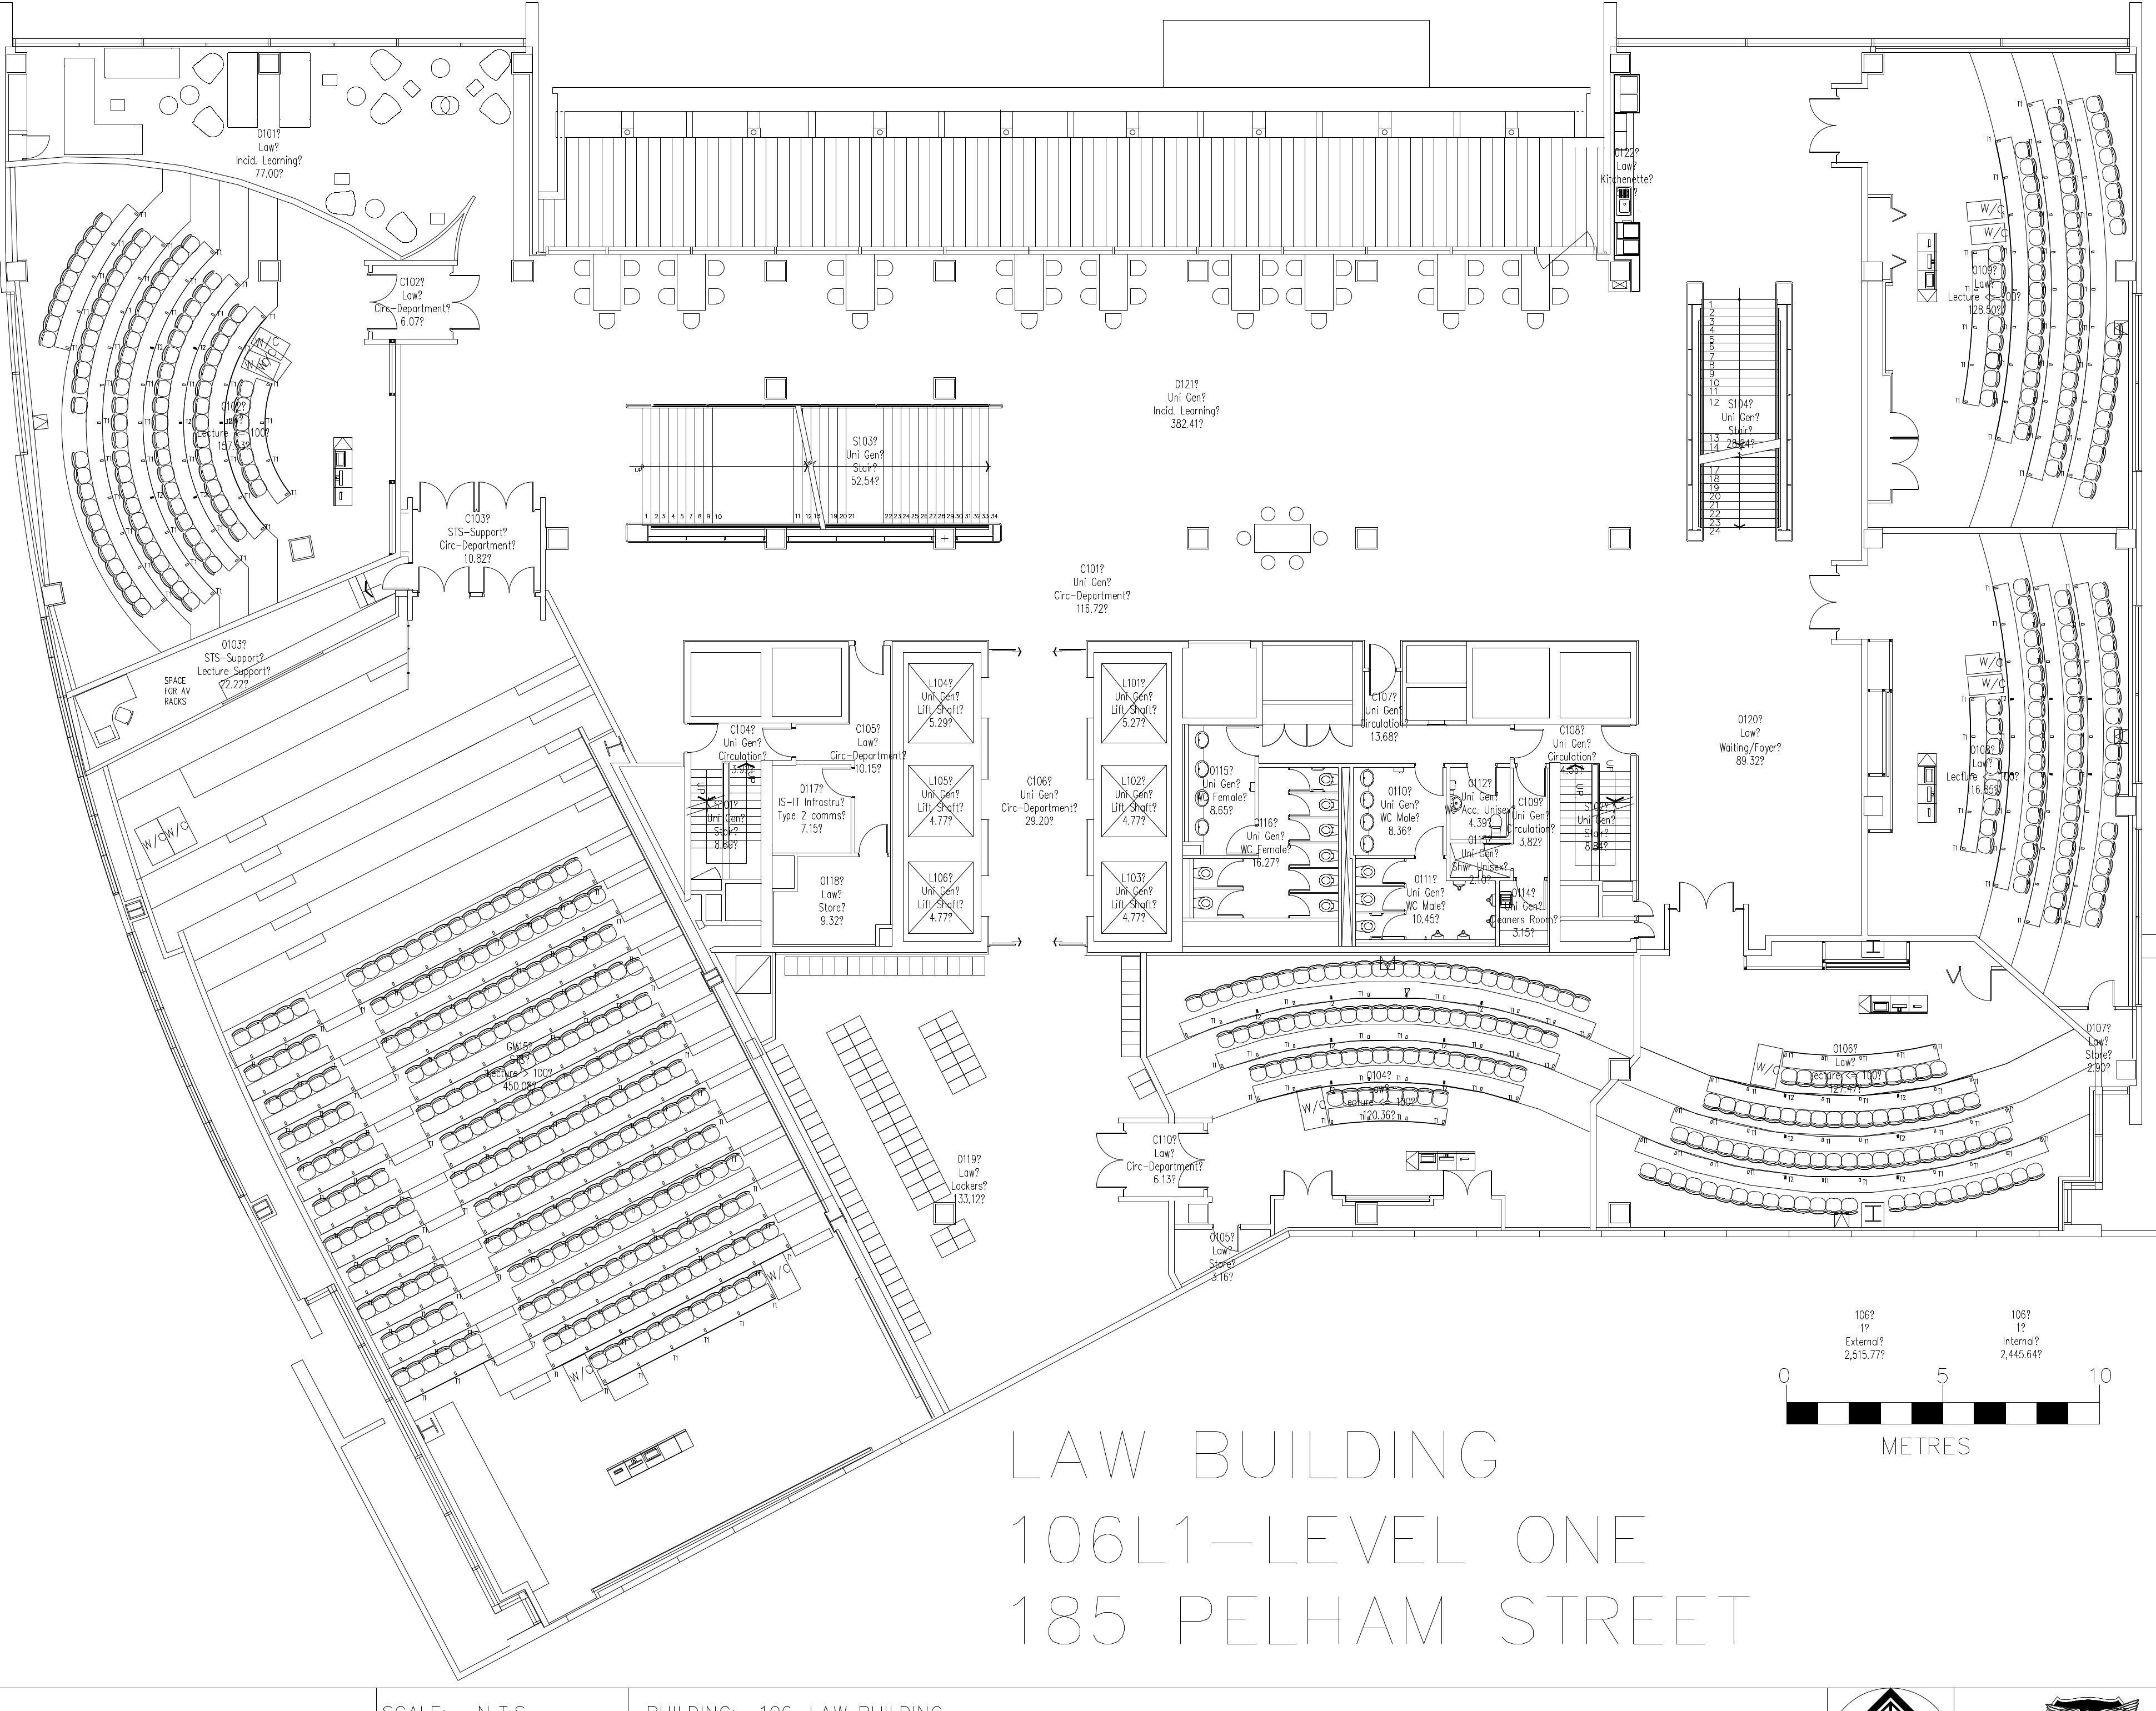door: (1797, 96, 1841, 157), (1172, 1130, 1211, 1193), (1090, 1130, 1129, 1191), (1802, 572, 1841, 632), (1885, 437, 1927, 492), (1678, 880, 1736, 915), (450, 273, 483, 332), (416, 479, 474, 513), (415, 560, 473, 593), (367, 271, 399, 331), (478, 481, 535, 513), (480, 560, 537, 591), (1281, 1165, 1335, 1195), (1440, 1169, 1494, 1198), (1307, 726, 1354, 751), (1885, 411, 1929, 437), (1258, 726, 1307, 749), (758, 724, 791, 758), (688, 723, 721, 756), (1223, 724, 1255, 759), (821, 766, 852, 800), (1414, 766, 1446, 800), (1596, 724, 1629, 756), (2084, 973, 2116, 1006), (854, 647, 886, 679), (858, 821, 889, 852), (1414, 822, 1446, 854), (1514, 728, 1545, 759), (382, 562, 411, 590), (1214, 889, 1244, 917), (1214, 859, 1244, 885), (1285, 817, 1311, 843), (28, 131, 52, 157), (1285, 894, 1313, 917), (1381, 861, 1405, 885), (1381, 911, 1405, 936), (1285, 794, 1313, 815), (1285, 768, 1313, 789), (1381, 885, 1403, 910), (1286, 869, 1313, 890), (1285, 845, 1311, 866), (1638, 899, 1655, 918), (1638, 922, 1655, 941)
